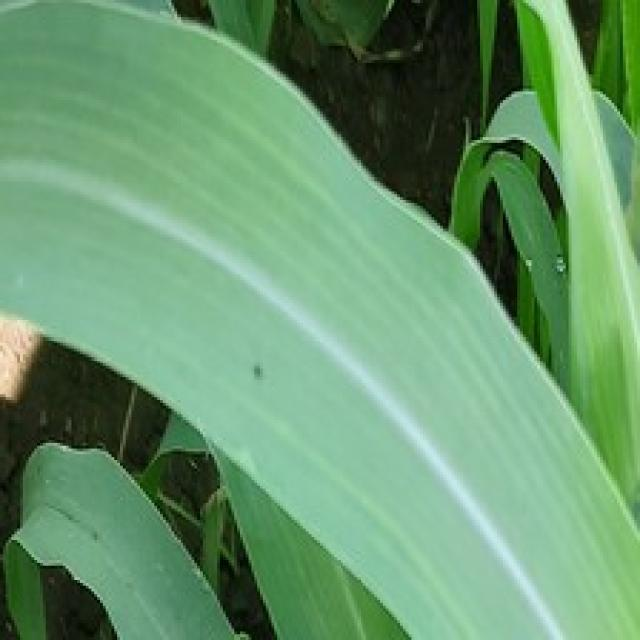Corn: (0, 0, 637, 637), (0, 437, 257, 637)
